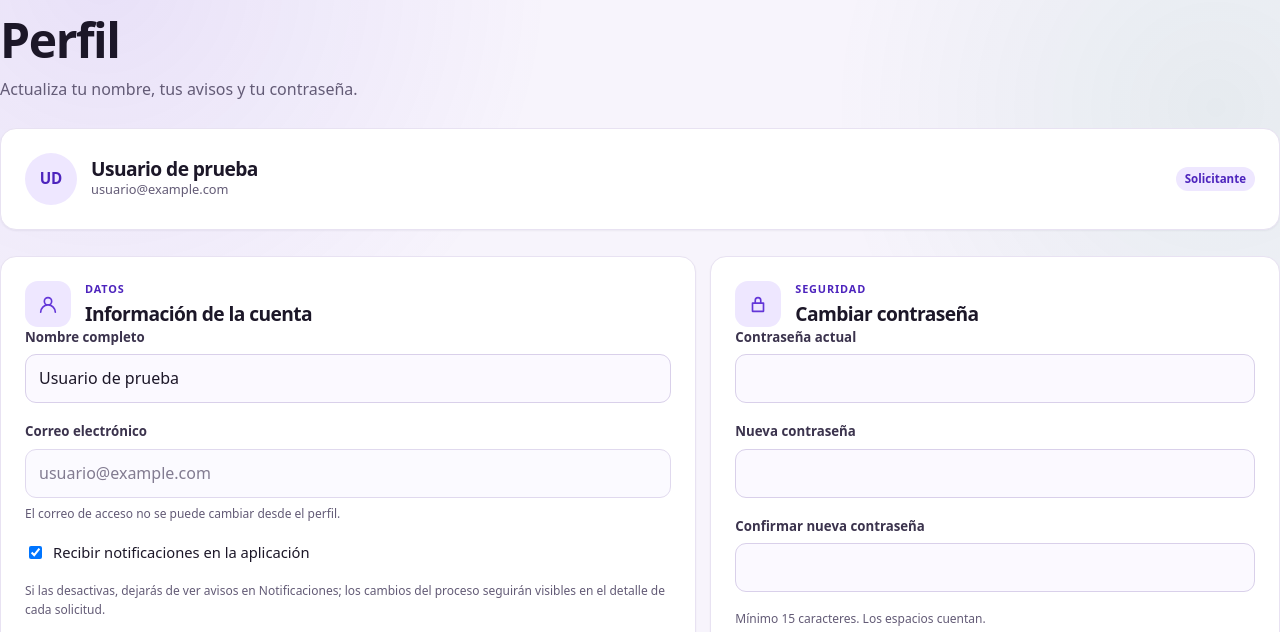
Test: ProfilePage › carga y actualiza los datos permitidos
Expected: the heading "Perfil" is shown, [0,7,120,72]
Replace the text in the field labelled "Nombre completo" with "Usuario actualizado": (348, 379) [25,354,671,403]
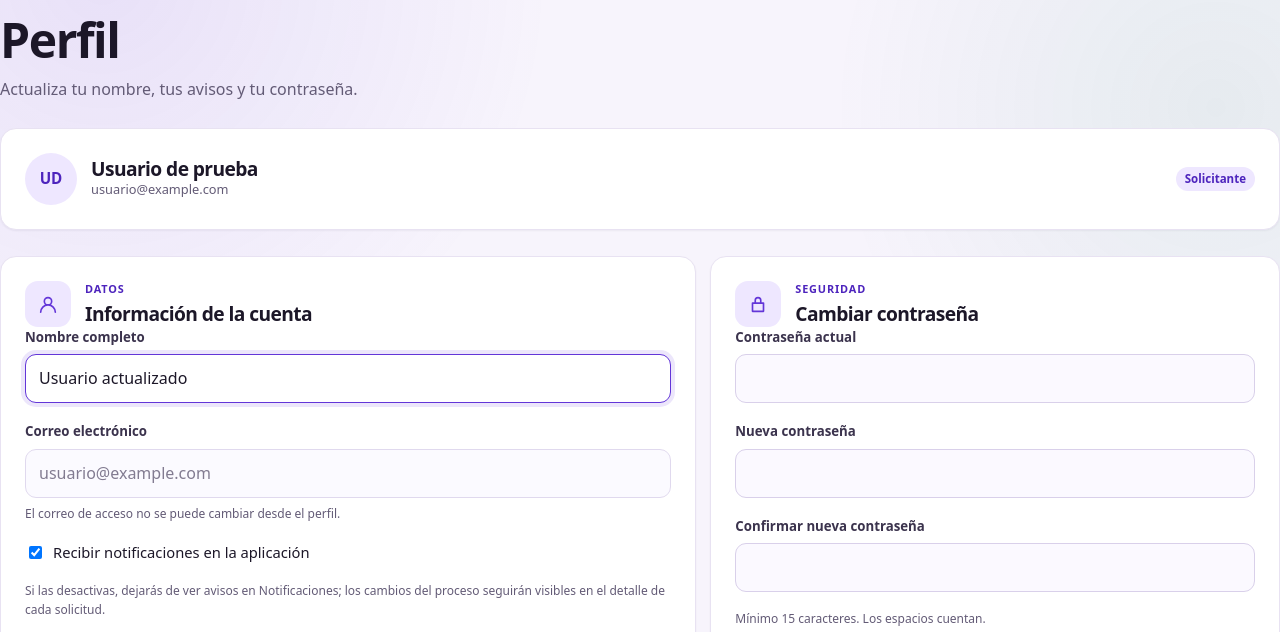
Click the checkbox labelled "Recibir notificaciones en la aplicación": (36, 553) [29,546,42,559]
(page scrolled)
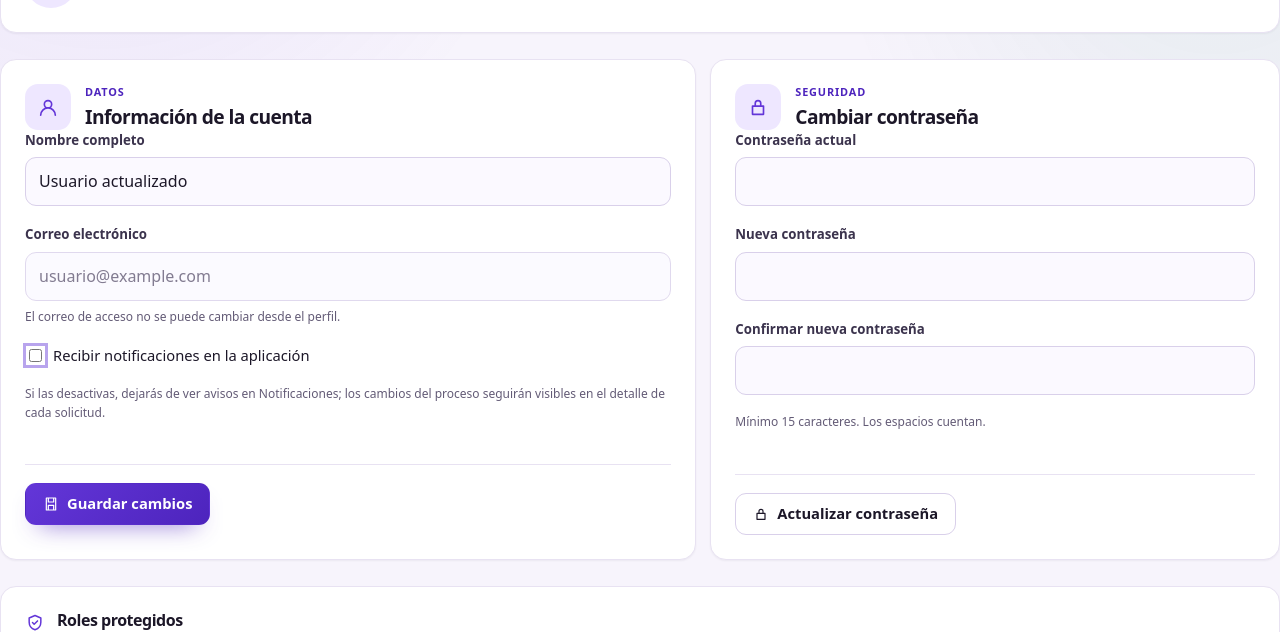
Click the button "Guardar cambios": (118, 504) [25,483,210,525]
(page scrolled)
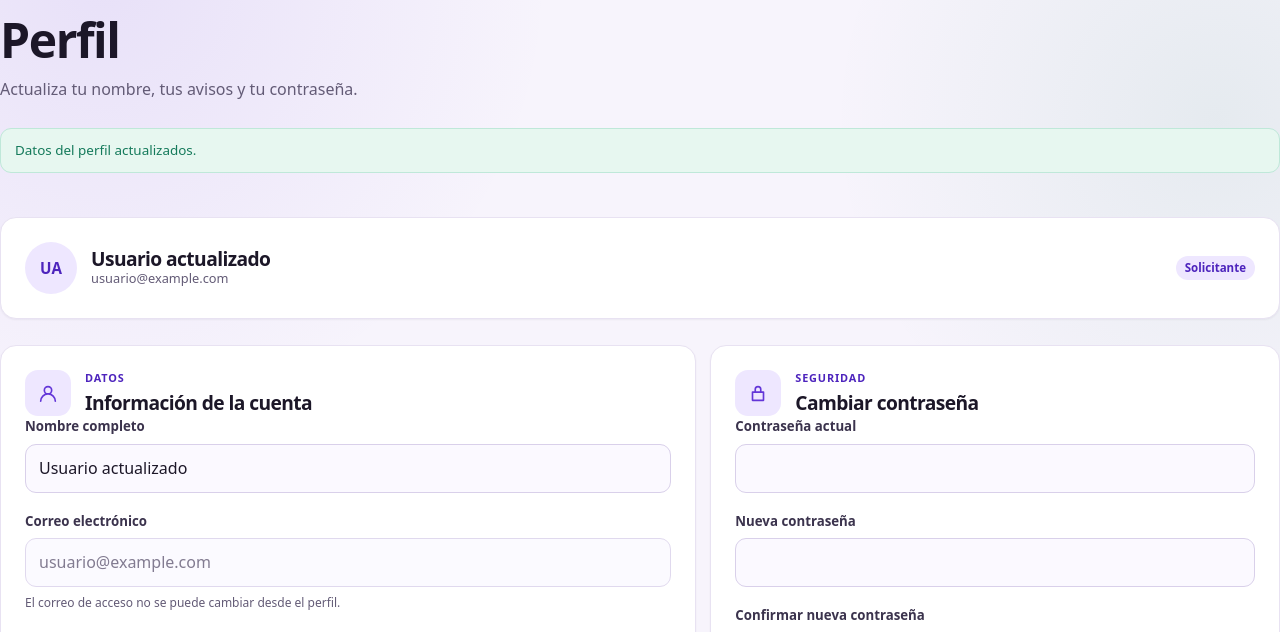
Result: the text "Datos del perfil actualizados." is shown at [0,128,1279,173]
